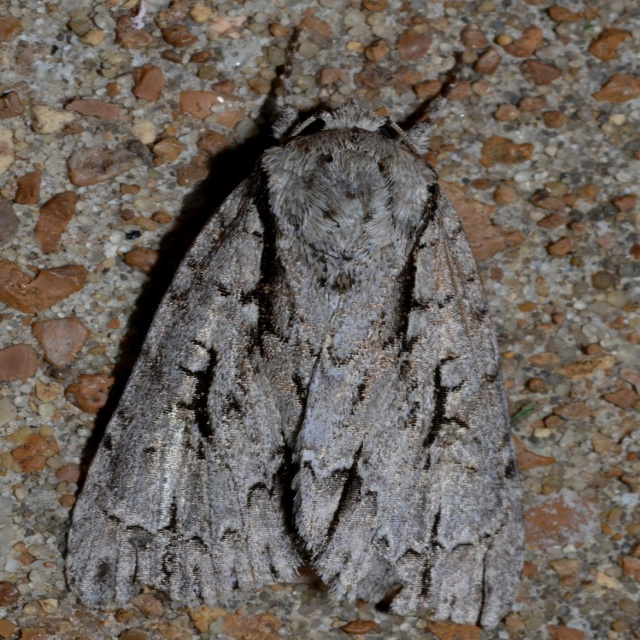Moths and butterflies: (64, 26, 533, 634)
